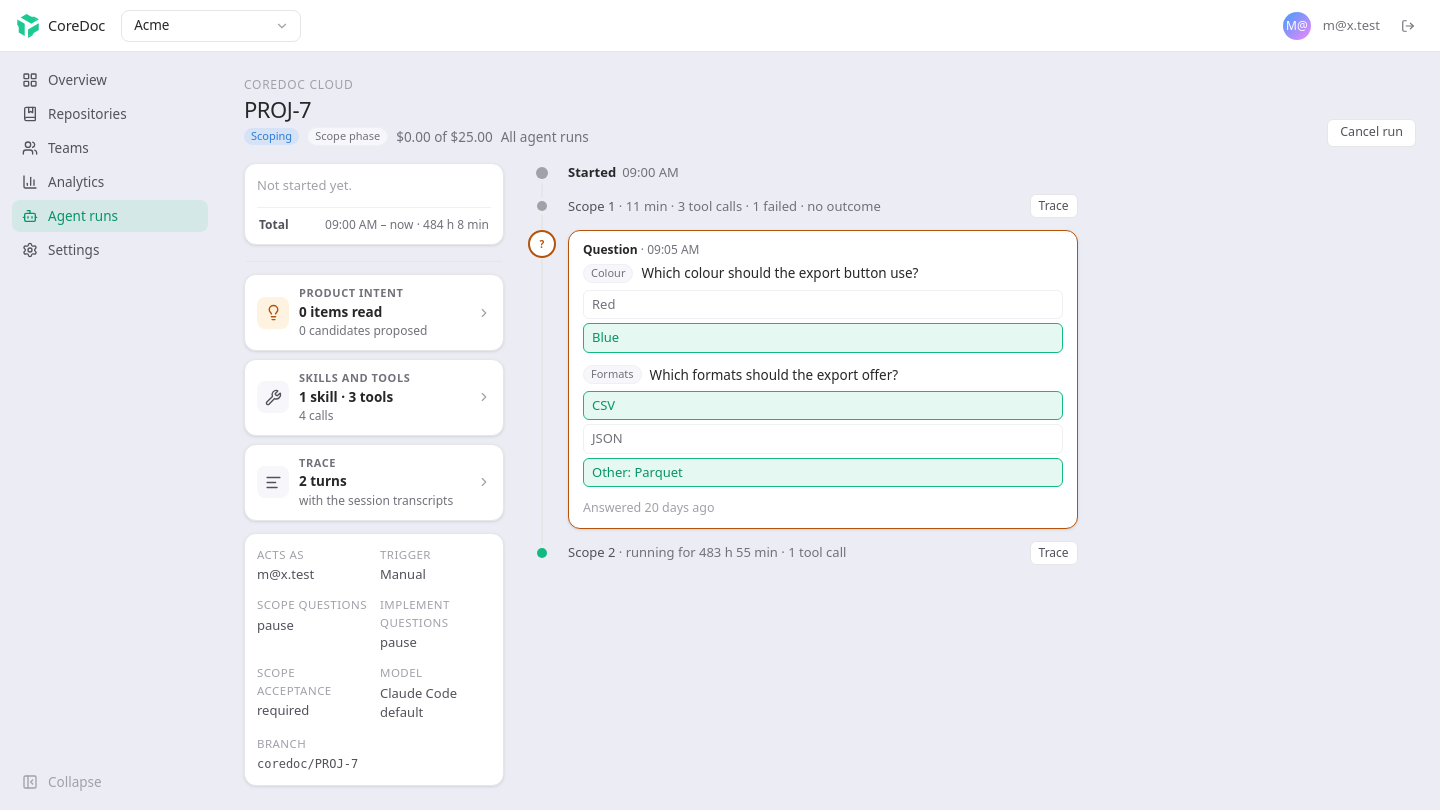
agent runs routes › trace › shows a question the turn asked, with the options the person chose
Click the button with aria-label "Trace of turn 1": (1054, 206) x1=1030 y1=194 x2=1078 y2=218
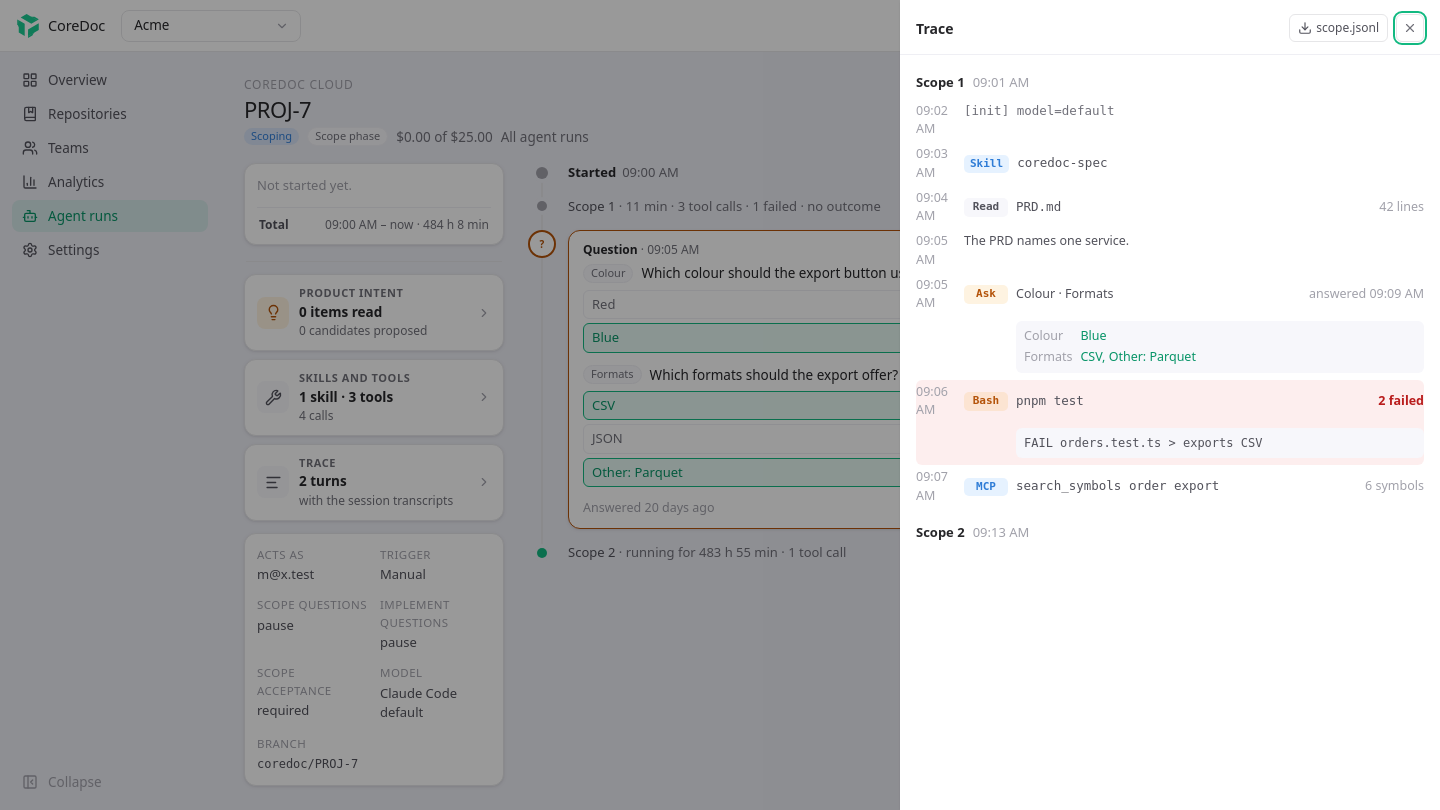
Expected: the list item "09:05 AM Ask Colour · Formats answered 09:09 AM" is shown, x1=916 y1=272 x2=1424 y2=380
